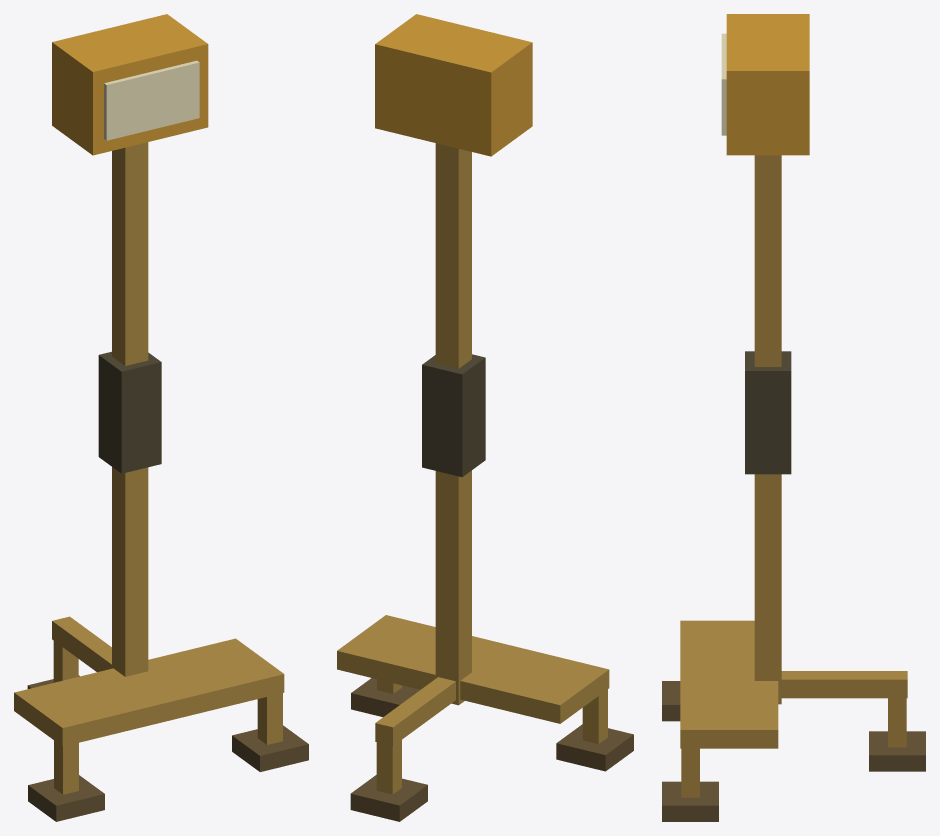
Rendered from CMU3DTripodLamp.glb.
3 views of the same model, side by side, from view 1: azimuth 30°, elevation 25°; view 2: azimuth 150°, elevation 25°; view 3: azimuth 270°, elevation 25° (orthographic).
Parts seen in each view (by area): view 1: upper leg (×3), tripod mast, lamp head, mast sleeve, lens, tripod foot (×2), lower leg (×3); view 2: lamp head, upper leg (×3), tripod mast, mast sleeve, tripod foot (×3), lower leg (×2); view 3: upper leg (×3), lamp head, tripod mast, mast sleeve, tripod foot (×3), lower leg (×2), lens.
Part boxes in pixels (bbox=[...]): upper leg (×3): bbox=[14, 616, 284, 746]; tripod mast: bbox=[112, 142, 148, 676]; lamp head: bbox=[52, 14, 208, 155]; mast sleeve: bbox=[98, 351, 161, 473]; lens: bbox=[104, 60, 199, 140]; tripod foot (×2): bbox=[28, 725, 308, 821]; lower leg (×3): bbox=[53, 641, 282, 794]; lamp head: bbox=[375, 14, 532, 156]; upper leg (×3): bbox=[337, 615, 609, 745]; tripod mast: bbox=[435, 143, 471, 705]; mast sleeve: bbox=[422, 354, 485, 477]; tripod foot (×3): bbox=[350, 678, 633, 821]; lower leg (×2): bbox=[376, 689, 607, 794]; upper leg (×3): bbox=[680, 620, 907, 748]; lamp head: bbox=[726, 14, 809, 155]; tripod mast: bbox=[754, 155, 781, 704]; mast sleeve: bbox=[745, 351, 791, 474]; tripod foot (×3): bbox=[662, 681, 925, 821]; lower leg (×2): bbox=[681, 698, 906, 797]; lens: bbox=[721, 33, 726, 135].
Bounding box in the file's own units: 0.57 × 1.53 × 0.51.
